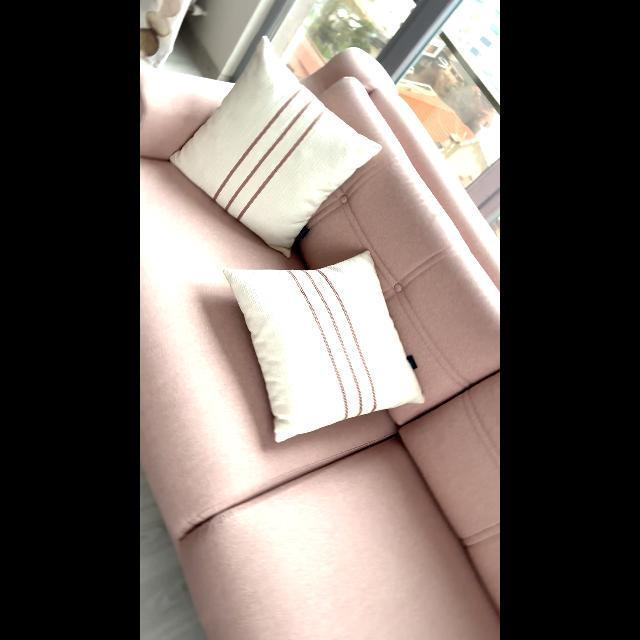throw pillow: (172, 29, 382, 265), (220, 247, 428, 448)
